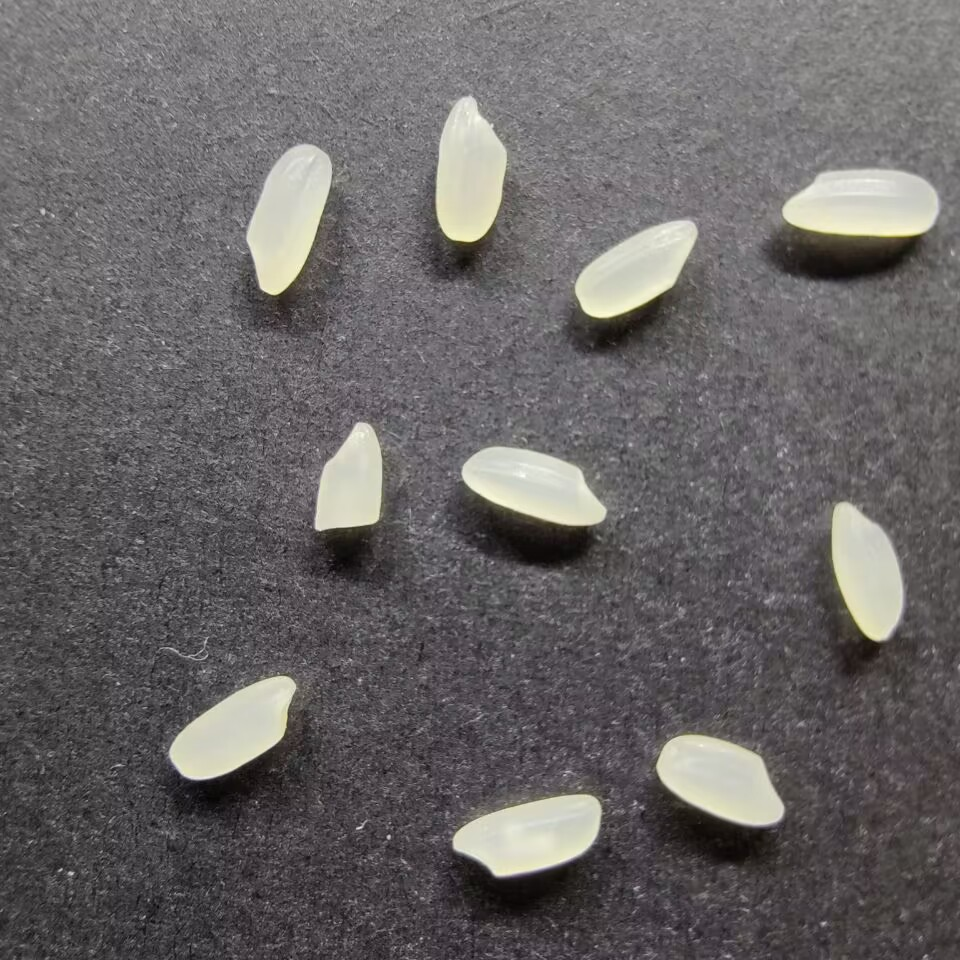broken: (311, 419, 384, 533)
rice: (167, 673, 296, 782), (245, 143, 334, 295), (449, 792, 603, 877), (573, 217, 700, 319), (654, 734, 788, 828), (460, 445, 609, 527), (780, 167, 940, 238), (433, 93, 508, 242), (829, 499, 905, 644)
